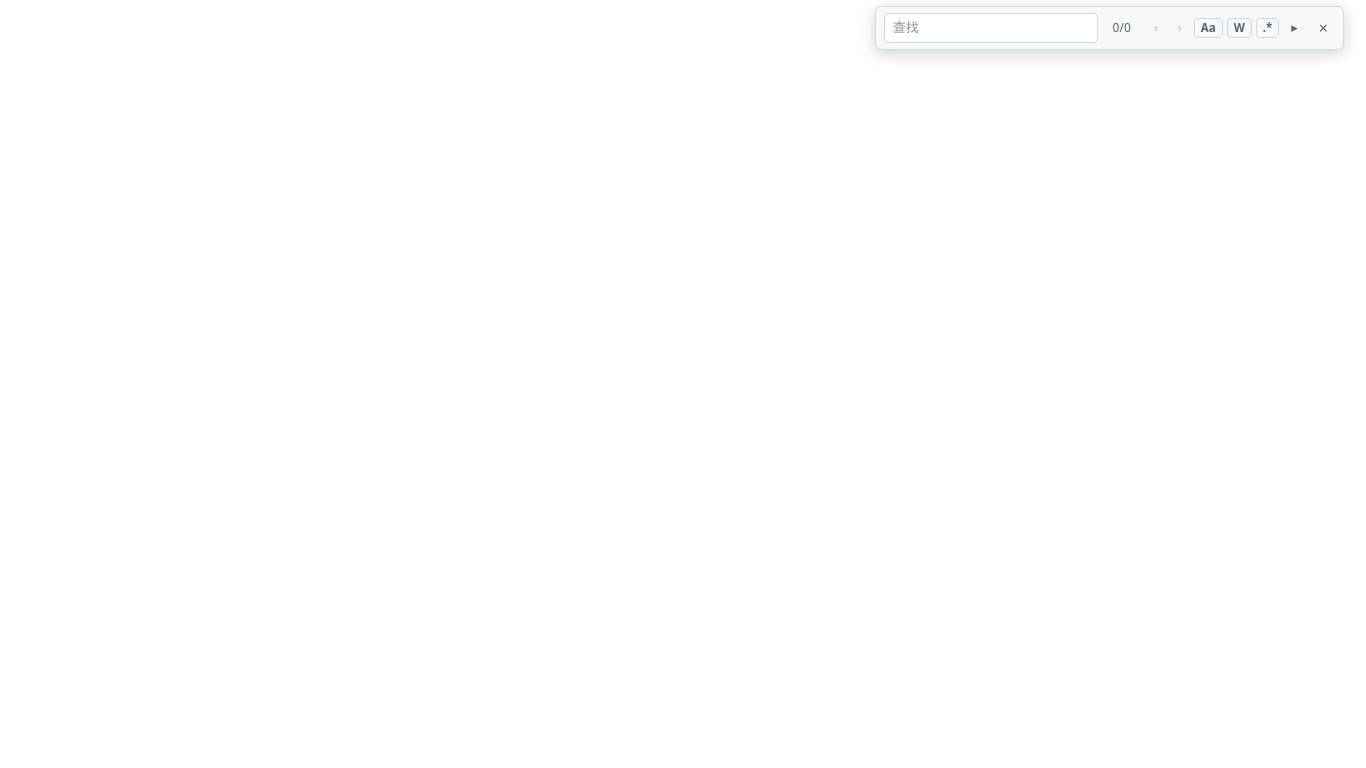
Test case: SearchPanel › respects the case-sensitivity toggle
Type "foo" into the field with placeholder "查找".
click(991, 28); type("foo")  # box top-left (884, 13), bottom-right (1098, 42)
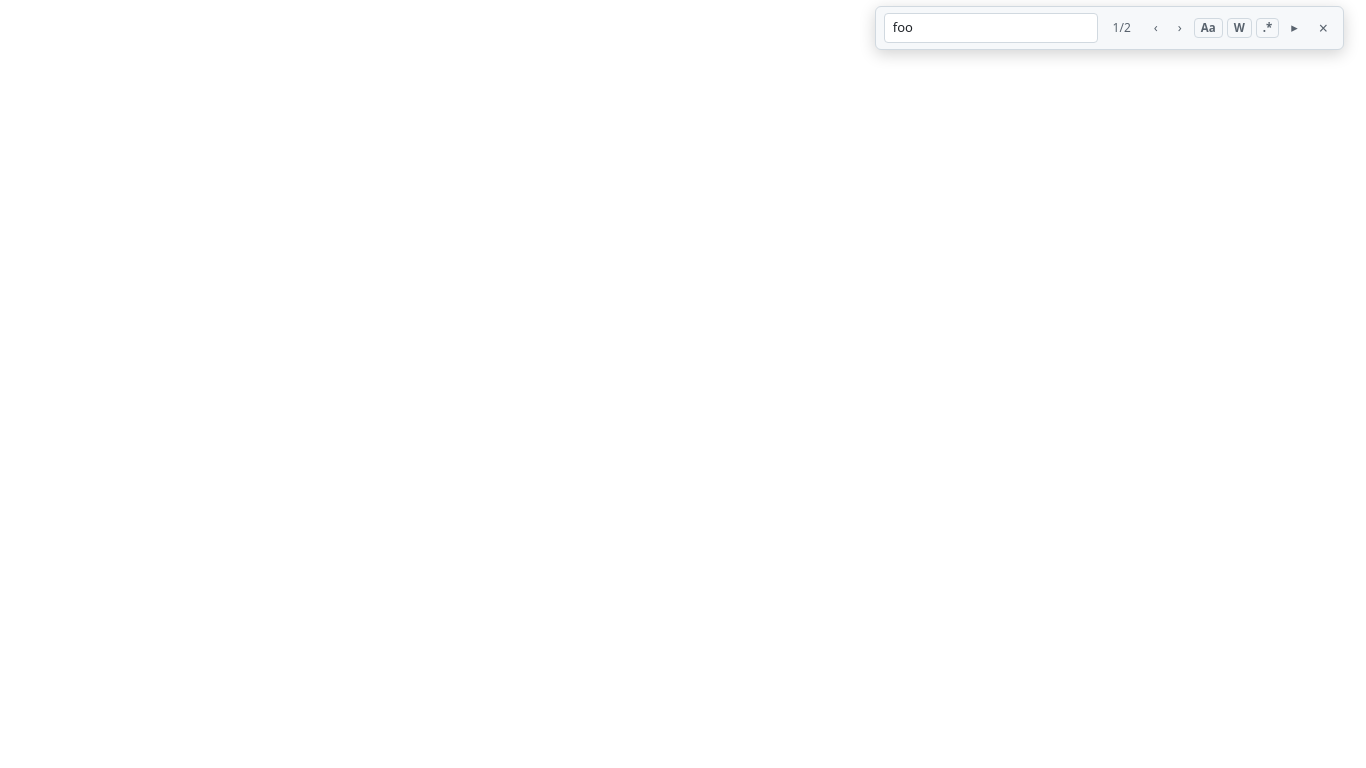
Now the text "1/2" is shown, box top-left (1113, 19), bottom-right (1131, 36)
Click the button titled "区分大小写".
click(1208, 28)  # box top-left (1194, 18), bottom-right (1223, 38)
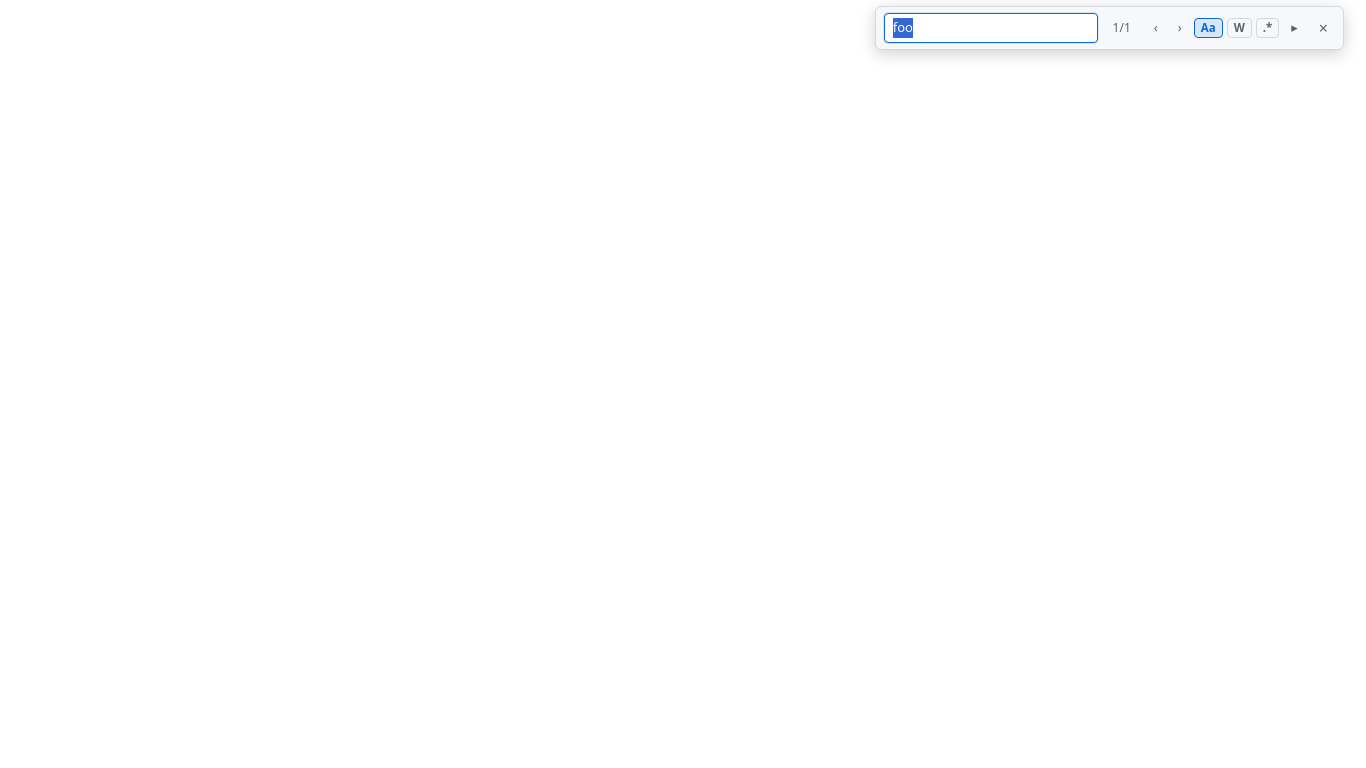
Now the text "1/1" is shown, box top-left (1113, 19), bottom-right (1131, 36)
